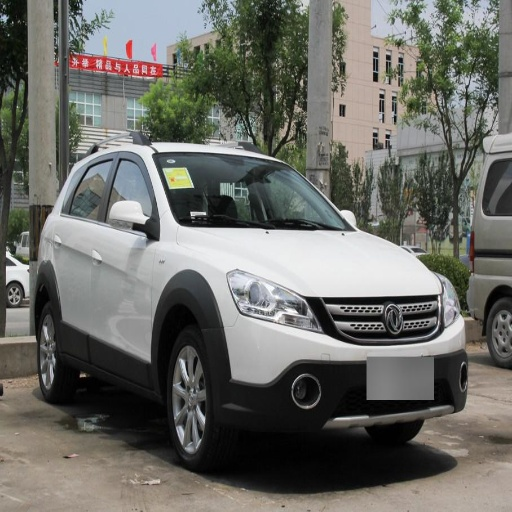front_bumper: (222, 293, 465, 430)
front_right_door: (90, 152, 157, 380)
front_right_light: (228, 269, 322, 331)
